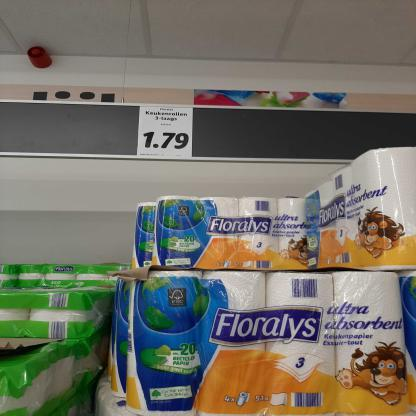prtg: (138, 107, 194, 158)
